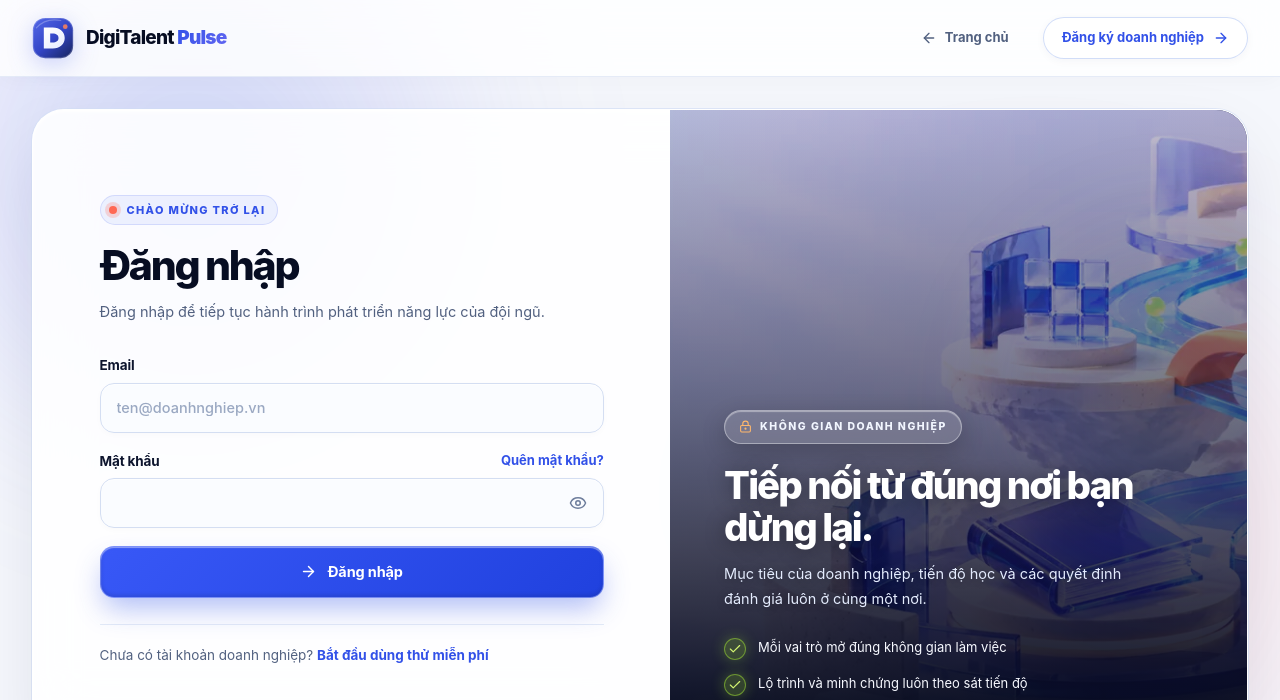
Authentication › FailedProfileLoadClearsPreviousEmployeeSessionDuringManagerLogin
The width and height of the screenshot is (1280, 700).
Type "manager@company.test" into the field labelled "Email".
click(352, 408); type("manager@company.test")  # box x1=100 y1=383 x2=604 y2=433
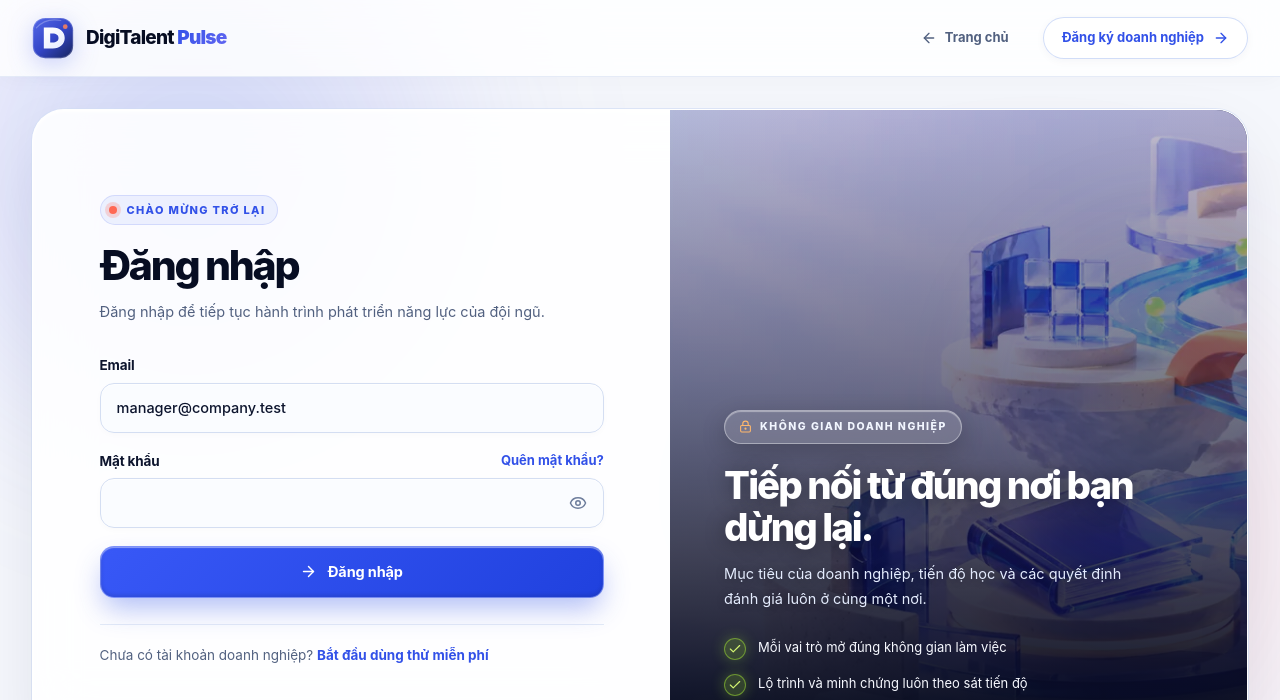
Type "valid-password" into the password field labelled "Mật khẩu".
click(352, 503); type("valid-password")  # box x1=100 y1=478 x2=604 y2=528
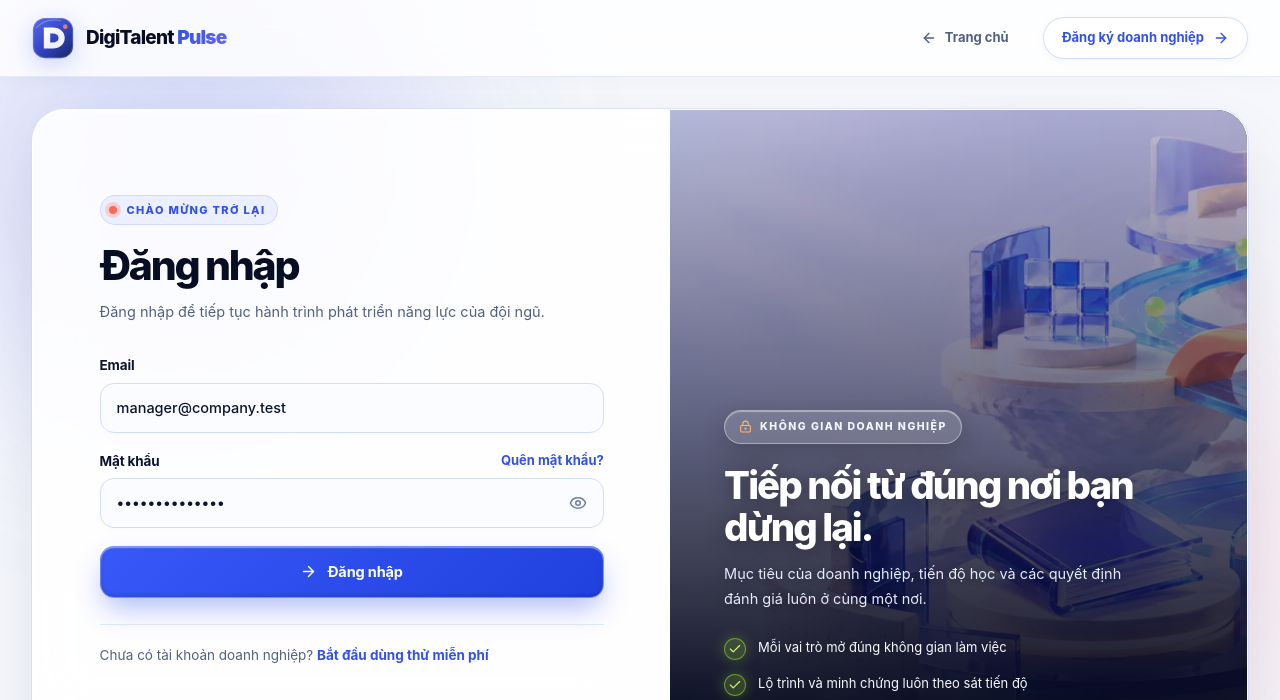
Click the button "Đăng nhập".
click(352, 572)  # box x1=100 y1=546 x2=604 y2=598
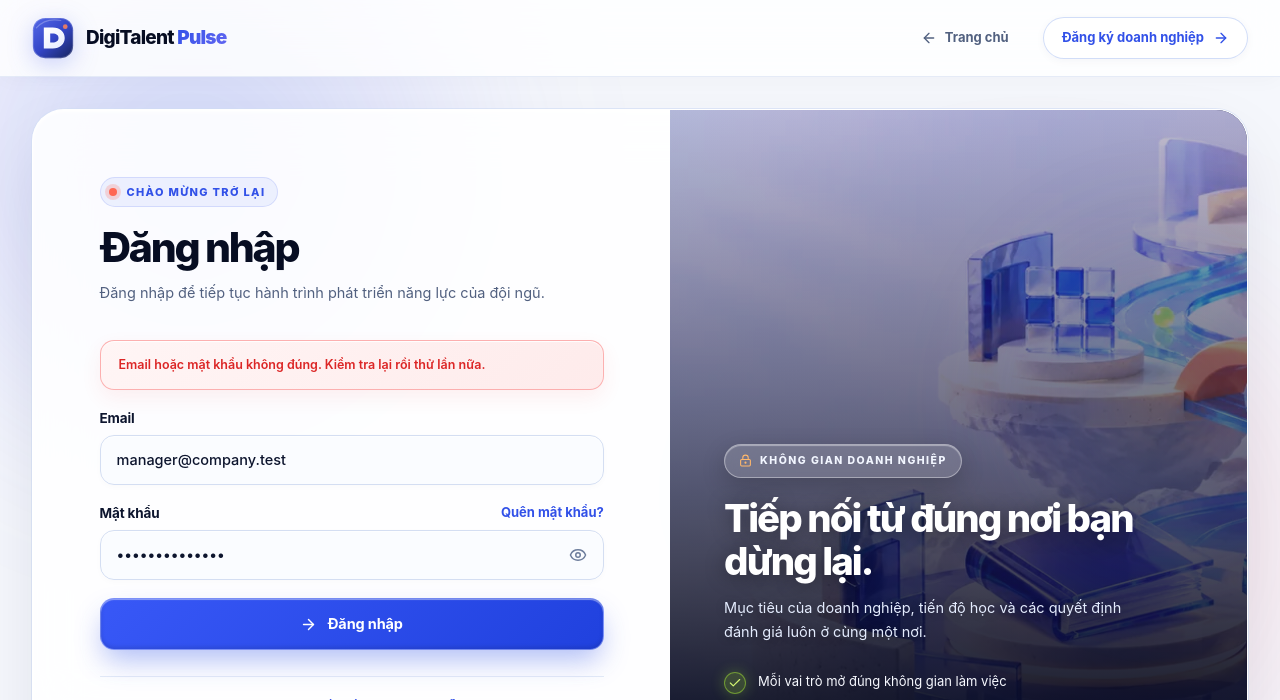
Check: the message "Email hoặc mật khẩu không đúng. Kiểm tra lại rồi thử lần nữa." is shown, box x1=100 y1=340 x2=604 y2=390
